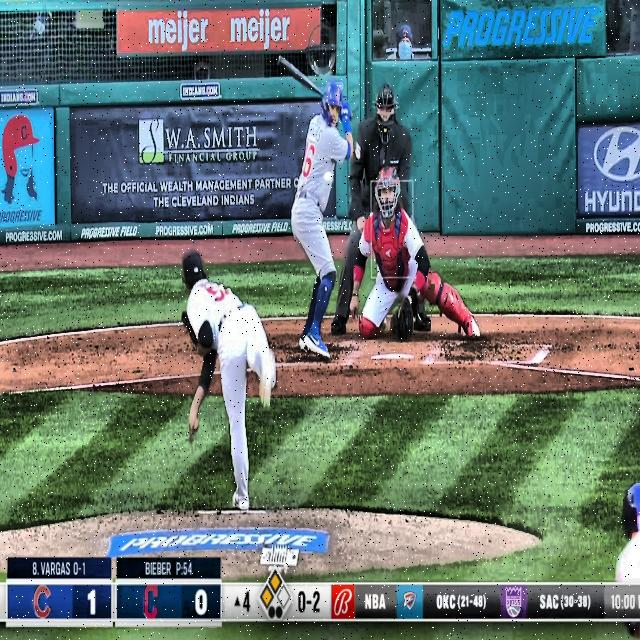baseball: (323, 170, 333, 186)
